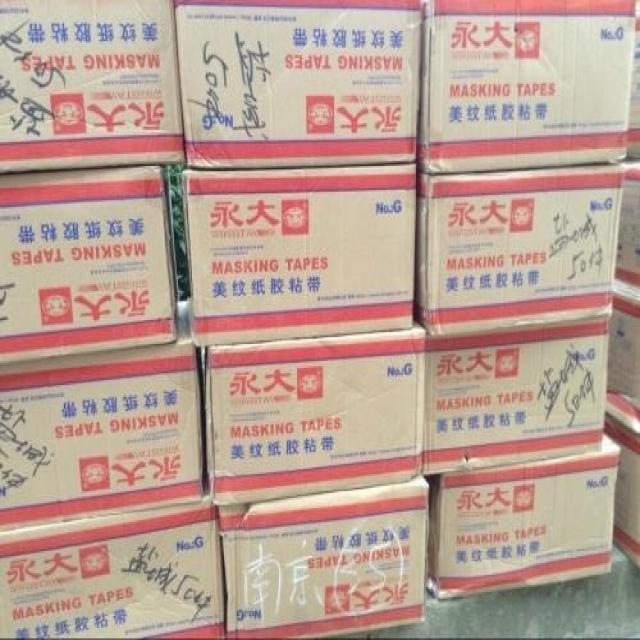box: (0, 299, 207, 532), (181, 162, 416, 346), (202, 314, 426, 506), (173, 1, 423, 166), (415, 1, 636, 176), (413, 160, 627, 336), (0, 471, 225, 638), (0, 164, 178, 364), (218, 473, 430, 638), (423, 433, 621, 602), (0, 0, 185, 171), (423, 320, 612, 473), (604, 396, 639, 570), (605, 291, 639, 397), (614, 161, 639, 298), (626, 0, 639, 161)
